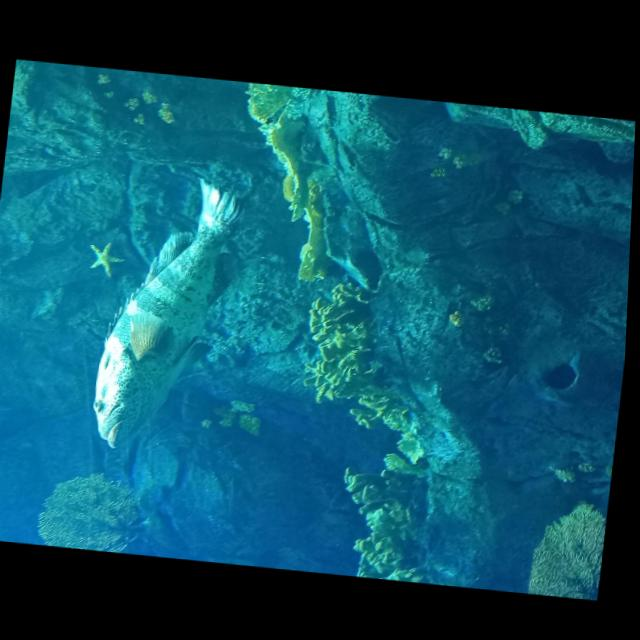Groupers: (86, 166, 249, 453)
